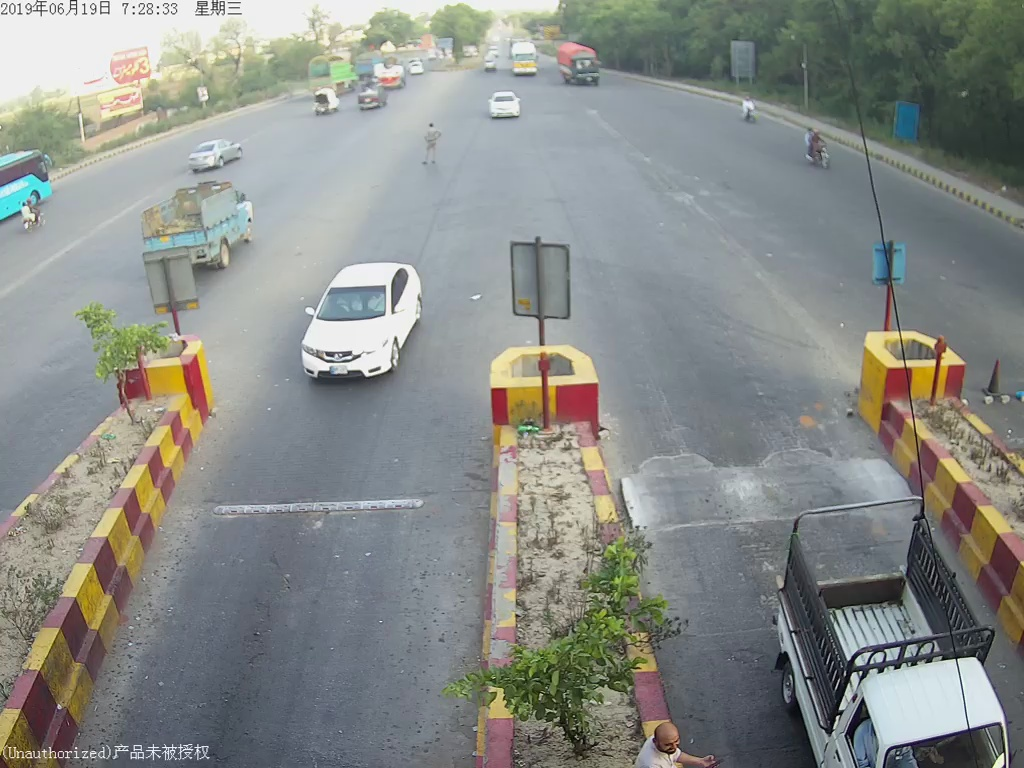Cat-1: (295, 260, 436, 390), (481, 88, 531, 126)
